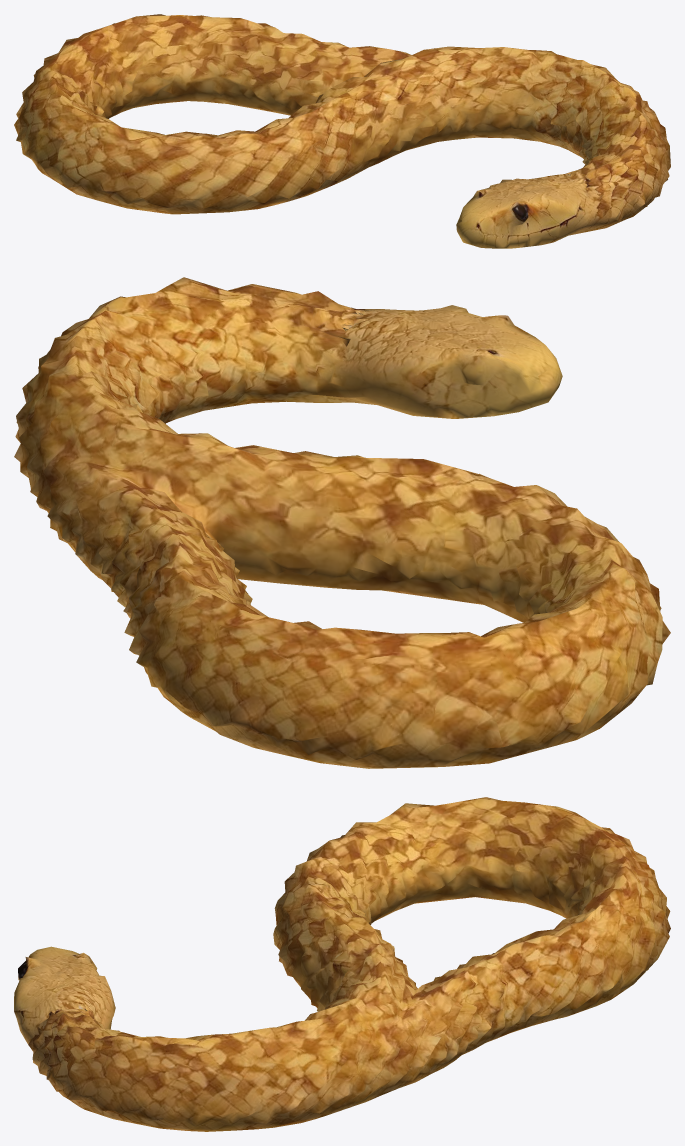
File: snake.glb
3 views of the same model, one above another, from view 1: azimuth 30°, elevation 25°; view 2: azimuth 150°, elevation 25°; view 3: azimuth 270°, elevation 25° (orthographic). The views are drawn at different scales.
Parts seen in each view (by area): view 1: tripo_node_97d42e6f-0328-441b-bff1-d58575caa23e; view 2: tripo_node_97d42e6f-0328-441b-bff1-d58575caa23e; view 3: tripo_node_97d42e6f-0328-441b-bff1-d58575caa23e.
Part boxes in pixels (left/top/right/bottom): tripo_node_97d42e6f-0328-441b-bff1-d58575caa23e: left=14, top=14, right=670, bottom=248; tripo_node_97d42e6f-0328-441b-bff1-d58575caa23e: left=14, top=277, right=670, bottom=768; tripo_node_97d42e6f-0328-441b-bff1-d58575caa23e: left=14, top=797, right=670, bottom=1131.
Bounding box in the file's own units: 0.5861 × 0.0935 × 0.5896.
Materials: 1 (1 with a texture image).
